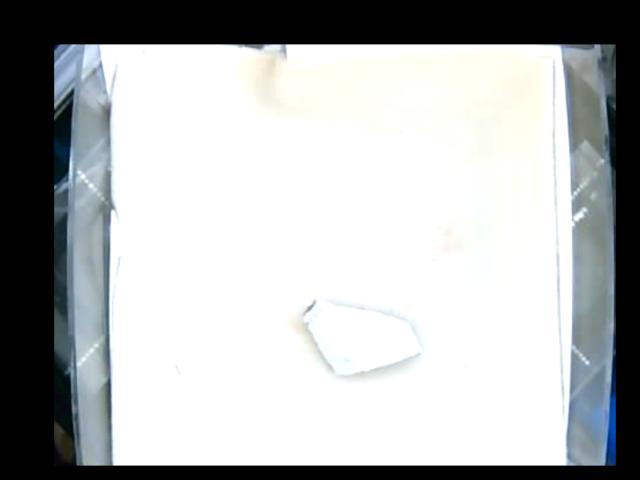China: (301, 295, 420, 376)
